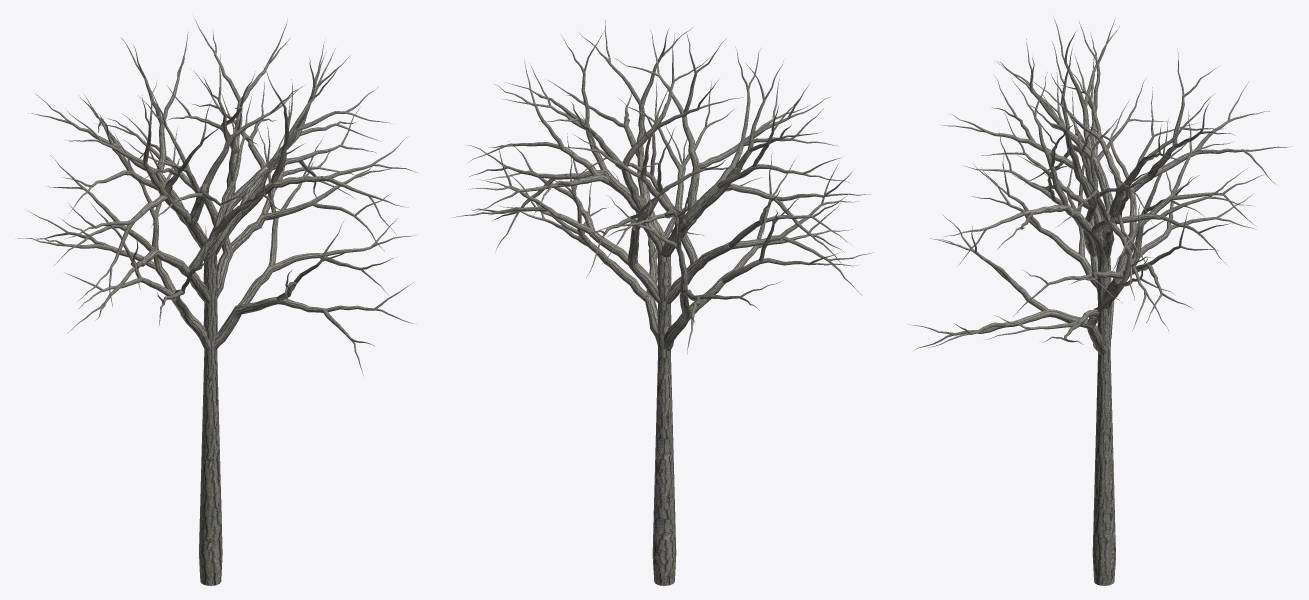
File: tree001.glb
The picture shows the model from 3 angles, left to right: view 1: azimuth 30°, elevation 25°; view 2: azimuth 150°, elevation 25°; view 3: azimuth 270°, elevation 25°; orthographic projection.
Visible parts, largest first — view 1: Tree_LOD0; view 2: Tree_LOD0; view 3: Tree_LOD0.
Boxes of the visible parts, x1,y1,x2,y2 form: Tree_LOD0: (18,19,417,585); Tree_LOD0: (454,20,873,585); Tree_LOD0: (907,16,1292,585).
Size of what is drawn, in the model's own units: 9.52 by 13.65 by 8.98.
Materials: 1 (1 with a texture image).
